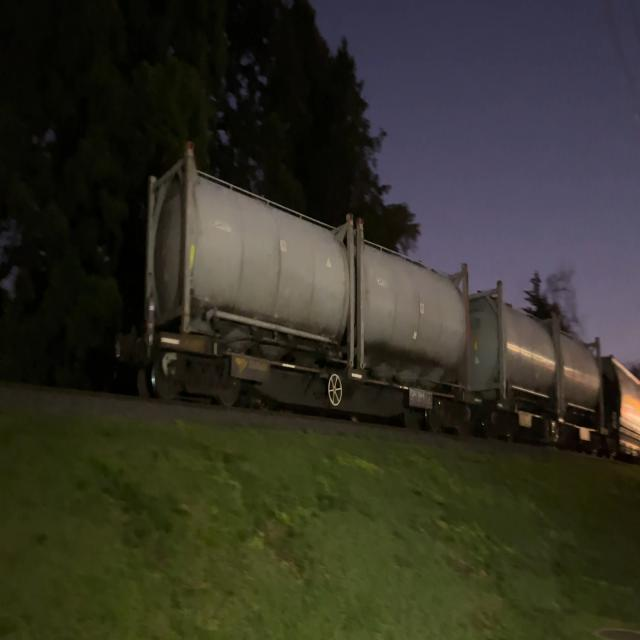flatcar: (152, 327, 487, 446)
tank: (143, 140, 357, 373), (354, 211, 473, 400), (472, 279, 561, 412)
